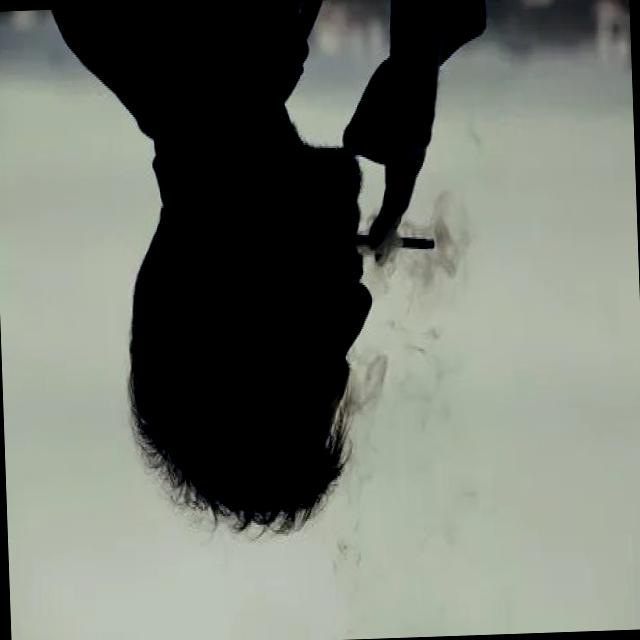smoke: (351, 228, 436, 257)
